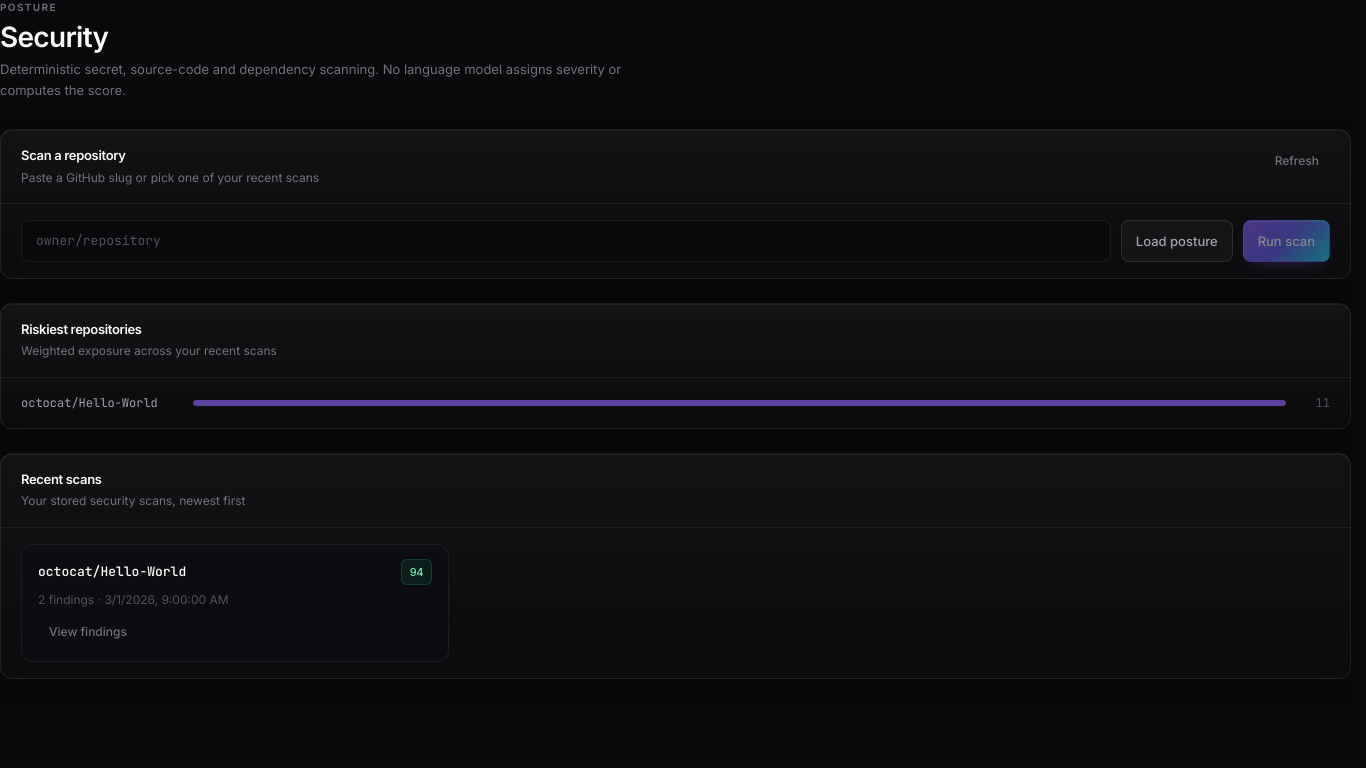
Test: SecurityPage › loading a repository posture › shows the posture score and severity mix from the backend
Step 1. Type "octocat/Hello-World" into the field labelled "repository" → (566, 241), box [21, 220, 1111, 262]
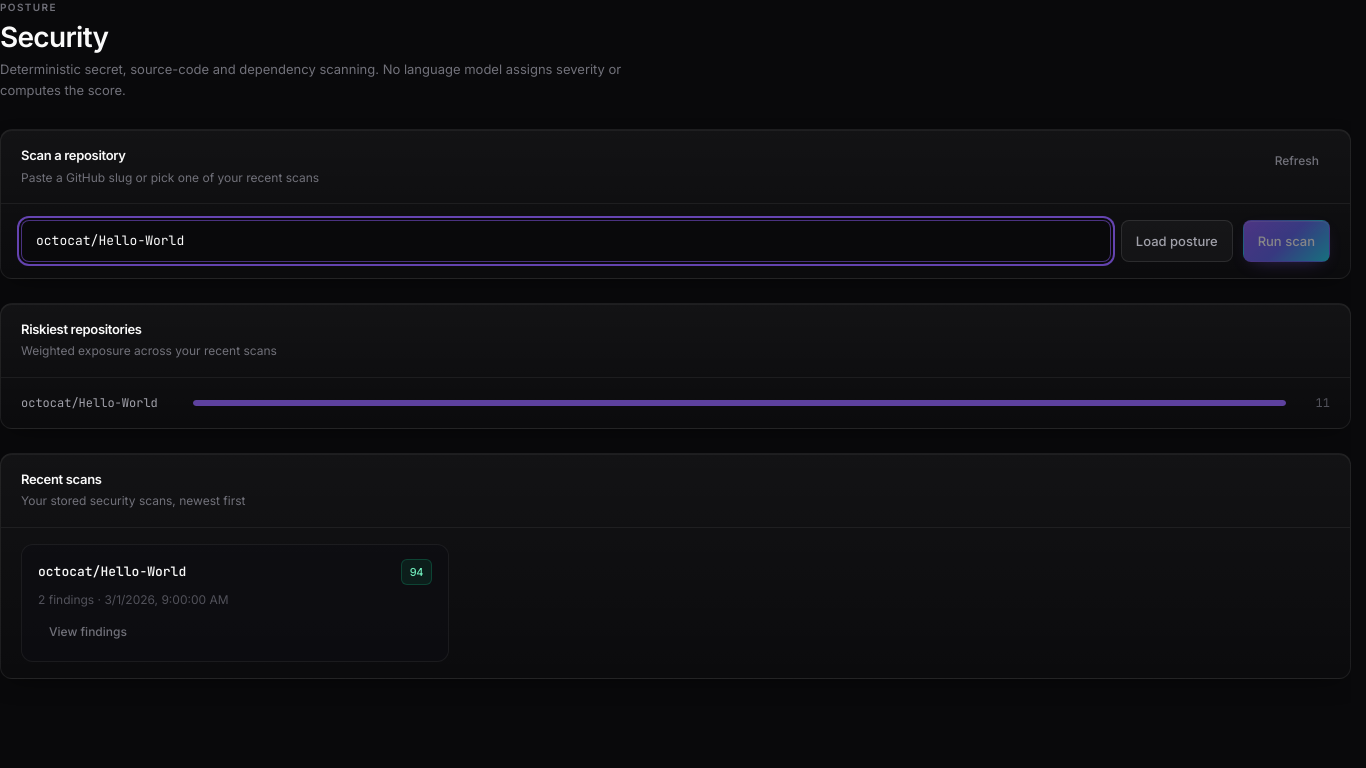
Step 2. Click the button "Load posture" → (1177, 241), box [1121, 220, 1233, 262]
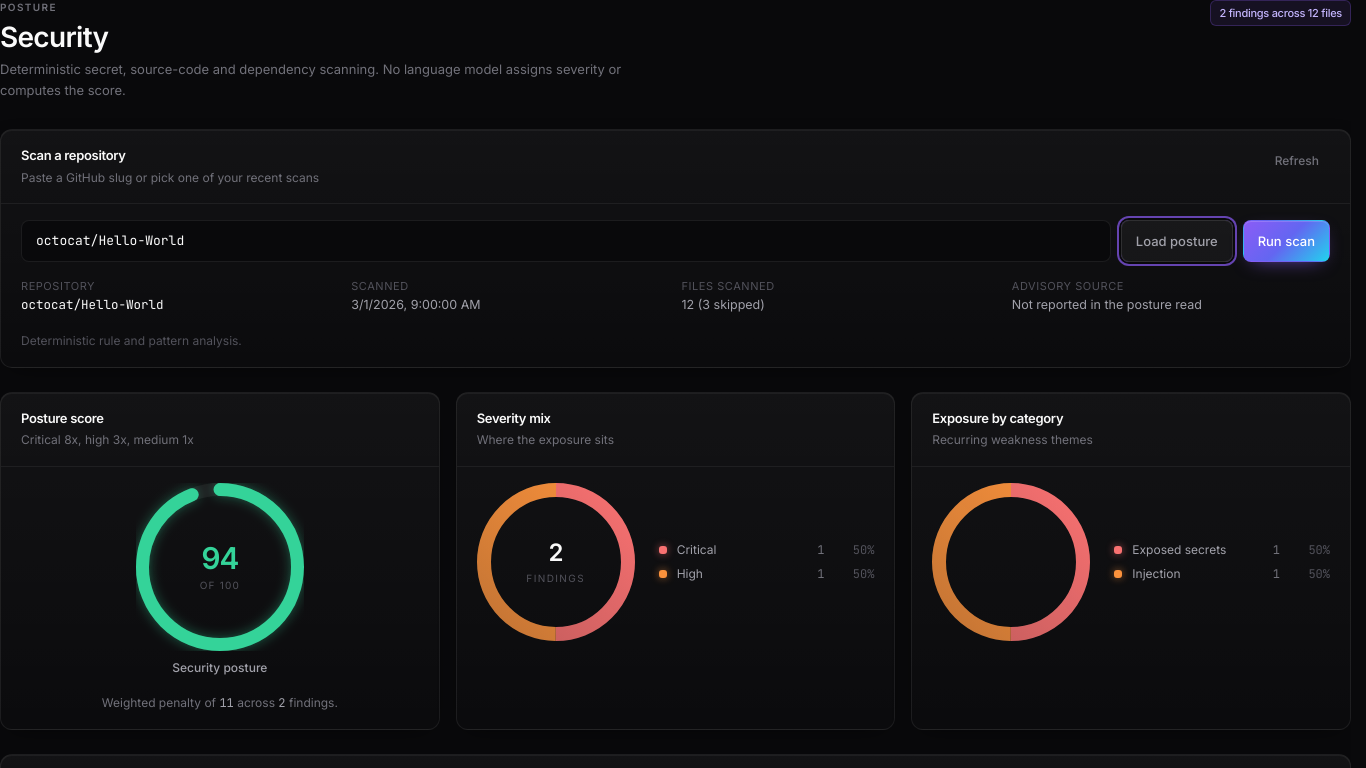
Now the heading "Posture score" is shown, box [21, 410, 104, 426]
Now the heading "Severity mix" is shown, box [477, 410, 551, 426]
Now the heading "Exposure by category" is shown, box [932, 410, 1063, 426]
